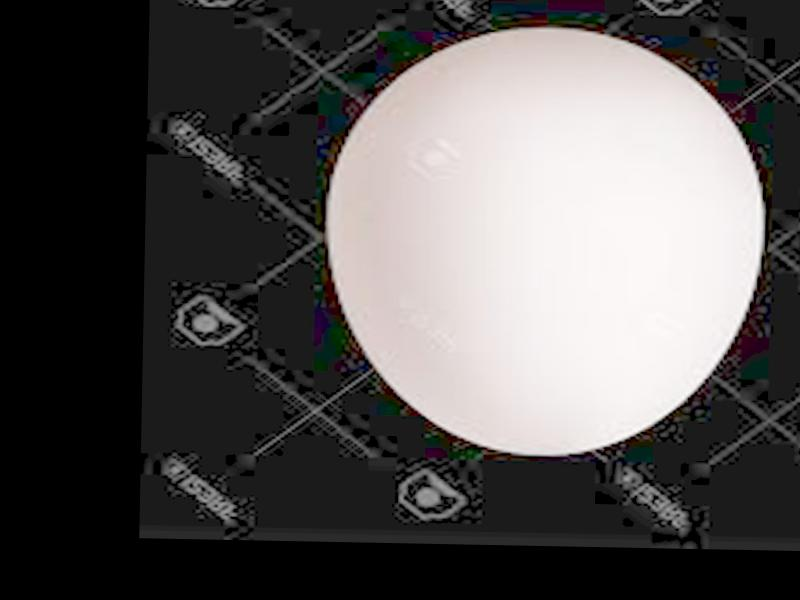Eggs: (329, 26, 764, 456)
